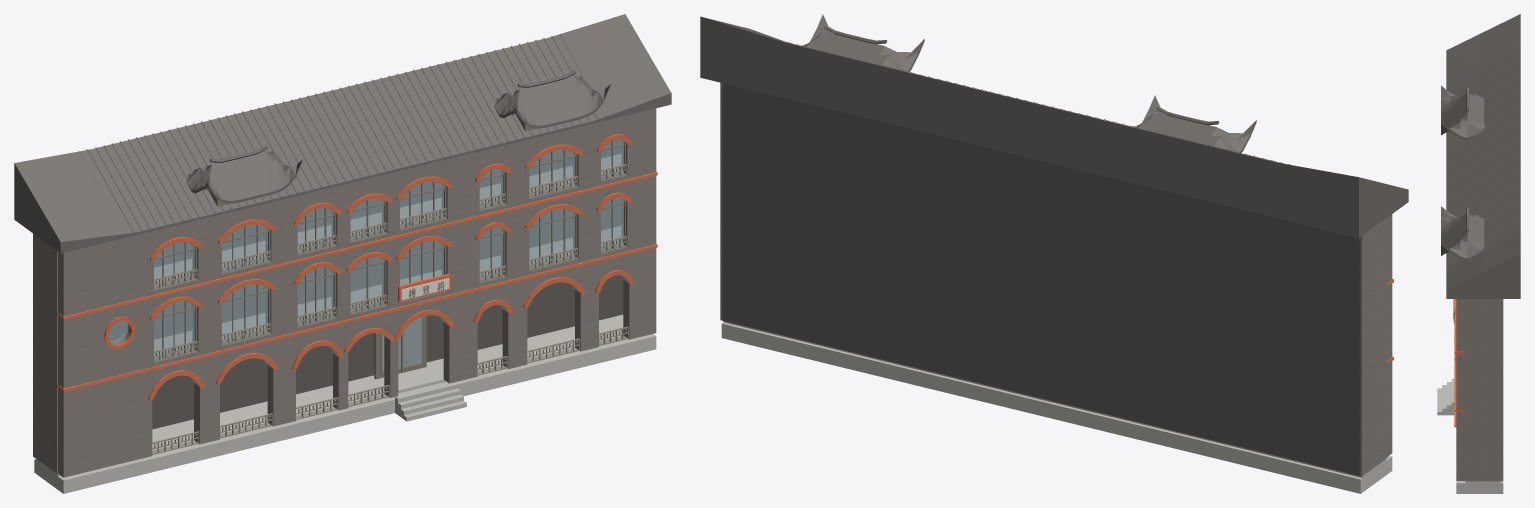
The model's file is lod-source.glb.
3 renders of one model, left to right at view 1: azimuth 30°, elevation 25°; view 2: azimuth 150°, elevation 25°; view 3: azimuth 270°, elevation 25°, orthographic. The views are drawn at different scales.
Visible parts, largest first — view 1: 圣约翰大学科学馆（格致楼42号）西院券廊; view 2: 圣约翰大学科学馆（格致楼42号）西院券廊; view 3: 圣约翰大学科学馆（格致楼42号）西院券廊.
Boxes of the visible parts, x1,y1,x2,y2 form: 圣约翰大学科学馆（格致楼42号）西院券廊: (14, 14, 671, 493); 圣约翰大学科学馆（格致楼42号）西院券廊: (700, 14, 1408, 493); 圣约翰大学科学馆（格致楼42号）西院券廊: (1437, 14, 1520, 493).
Bounding box in the file's own units: 33.85 × 16.09 × 4.96.
Materials: 9 (2 with a texture image).
